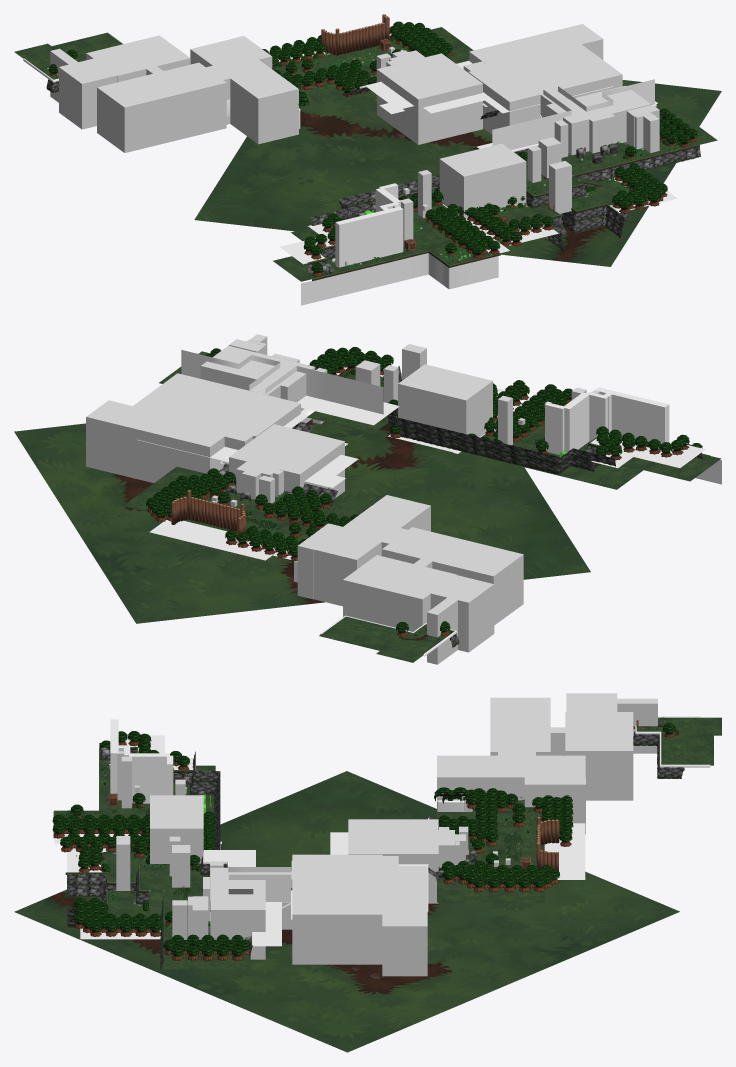
Rendered from world3.glb.
3 renders of one model, top to bottom at view 1: azimuth 30°, elevation 25°; view 2: azimuth 150°, elevation 25°; view 3: azimuth 270°, elevation 25°, orthographic. The views are drawn at different scales.
Parts seen in each view (by area): view 1: visual, area_stone_.012, visual.001, area_stone_.005, area_dirt_.012, area_dirt_.018, area_dirt_, floor_dirt_B.030, area_dirt_.003, area_stone_.015, area_stone_, area_stone_.006 (+25 smaller); view 2: visual, area_stone_.006, visual.001, area_stone_.005, area_dirt_.018, area_stone_.013, area_stone_.012, area_dirt_, area_dirt_.012, area_stone_, floor_receive.002, area_stone_.015 (+23 smaller); view 3: visual, area_stone_.005, visual.001, area_stone_.013, area_stone_.006, area_dirt_.018, floor_receive.009, area_dirt_.012, area_stone_, area_stone_.012, area_dirt_, floor_receive.006 (+21 smaller).
Boxes of the visible parts, bbox=[...] form: visual: bbox=[194, 80, 721, 266]; area_stone_.012: bbox=[97, 62, 226, 152]; visual.001: bbox=[246, 107, 651, 264]; area_stone_.005: bbox=[468, 44, 622, 134]; area_dirt_.012: bbox=[377, 53, 482, 144]; area_dirt_.018: bbox=[190, 39, 298, 144]; area_dirt_: bbox=[439, 143, 526, 218]; floor_dirt_B.030: bbox=[301, 253, 498, 305]; area_dirt_.003: bbox=[335, 206, 403, 267]; area_stone_.015: bbox=[59, 57, 121, 129]; area_stone_: bbox=[546, 85, 651, 155]; area_stone_.006: bbox=[469, 24, 603, 66]; visual: bbox=[14, 423, 590, 623]; area_stone_.006: bbox=[86, 400, 231, 482]; visual.001: bbox=[84, 419, 494, 605]; area_stone_.005: bbox=[133, 373, 300, 439]; area_dirt_.018: bbox=[313, 495, 430, 606]; area_stone_.013: bbox=[343, 555, 456, 631]; area_stone_.012: bbox=[382, 527, 523, 625]; area_dirt_: bbox=[398, 364, 492, 440]; area_dirt_.012: bbox=[229, 424, 344, 498]; area_stone_: bbox=[200, 345, 315, 423]; floor_receive.002: bbox=[477, 421, 720, 489]; area_stone_.015: bbox=[427, 575, 494, 652]; visual: bbox=[14, 771, 679, 1052]; area_stone_.005: bbox=[292, 854, 382, 964]; visual.001: bbox=[29, 889, 472, 1008]; area_stone_.013: bbox=[565, 712, 633, 800]; area_stone_.006: bbox=[382, 866, 427, 976]; area_dirt_.018: bbox=[437, 755, 585, 811]; floor_receive.009: bbox=[437, 801, 544, 902]; area_dirt_.012: bbox=[348, 819, 438, 903]; area_stone_: bbox=[210, 867, 265, 959]; area_stone_.012: bbox=[490, 697, 550, 755]; area_dirt_: bbox=[150, 795, 203, 863]; floor_receive.006: bbox=[140, 865, 250, 968].
Size of what is drawn, in the model's own units: 110 by 13.91 by 114.
Materials: 15 (6 with a texture image).
